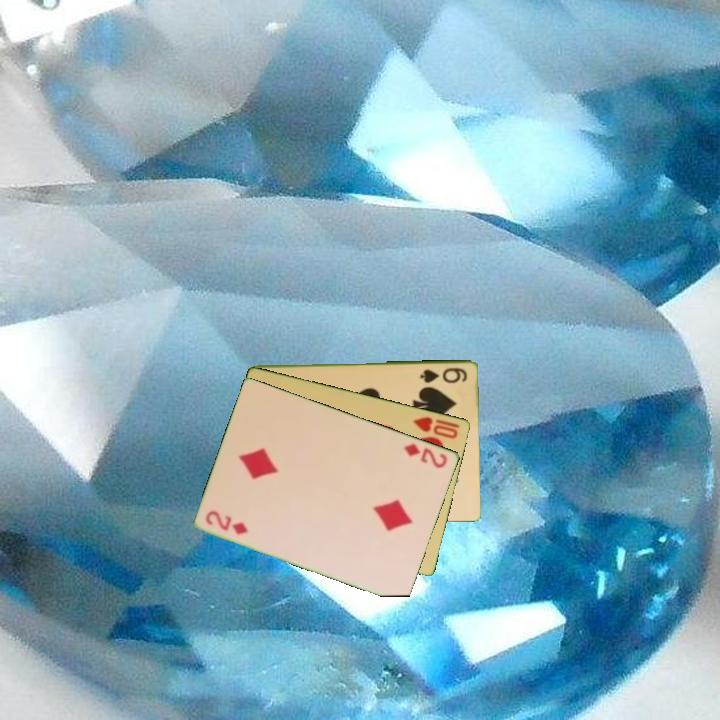10h: (410, 413, 463, 441)
2d: (401, 440, 450, 471), (202, 507, 251, 537)
6s: (417, 364, 470, 385)
